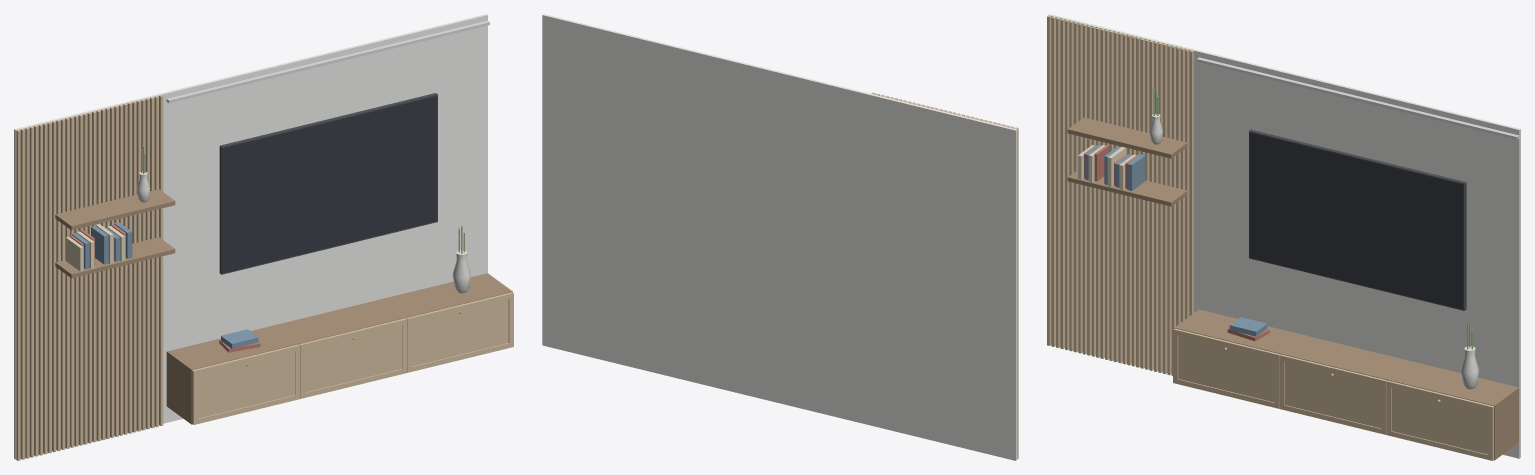
3 renders of one model, left to right at view 1: azimuth 30°, elevation 25°; view 2: azimuth 150°, elevation 25°; view 3: azimuth 330°, elevation 25°, orthographic.
Visible parts, largest first — view 1: Vách tivi Dài=3600; Sâu=350; view 2: Vách tivi Dài=3600; Sâu=350; view 3: Vách tivi Dài=3600; Sâu=350.
Boxes of the visible parts, x1,y1,x2,y2 form: Vách tivi Dài=3600; Sâu=350: (14,14,513,460); Vách tivi Dài=3600; Sâu=350: (542,14,1018,460); Vách tivi Dài=3600; Sâu=350: (1047,14,1520,460).
Size of the model in its own units: 3.6 by 2.4 by 0.39.
